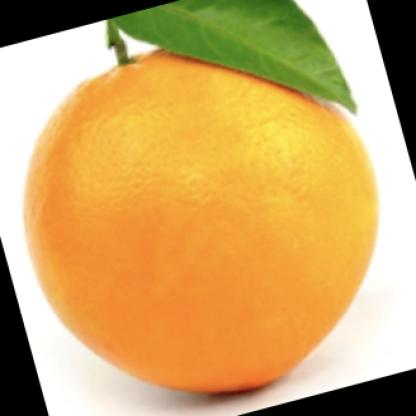fresh: (25, 48, 377, 392)
